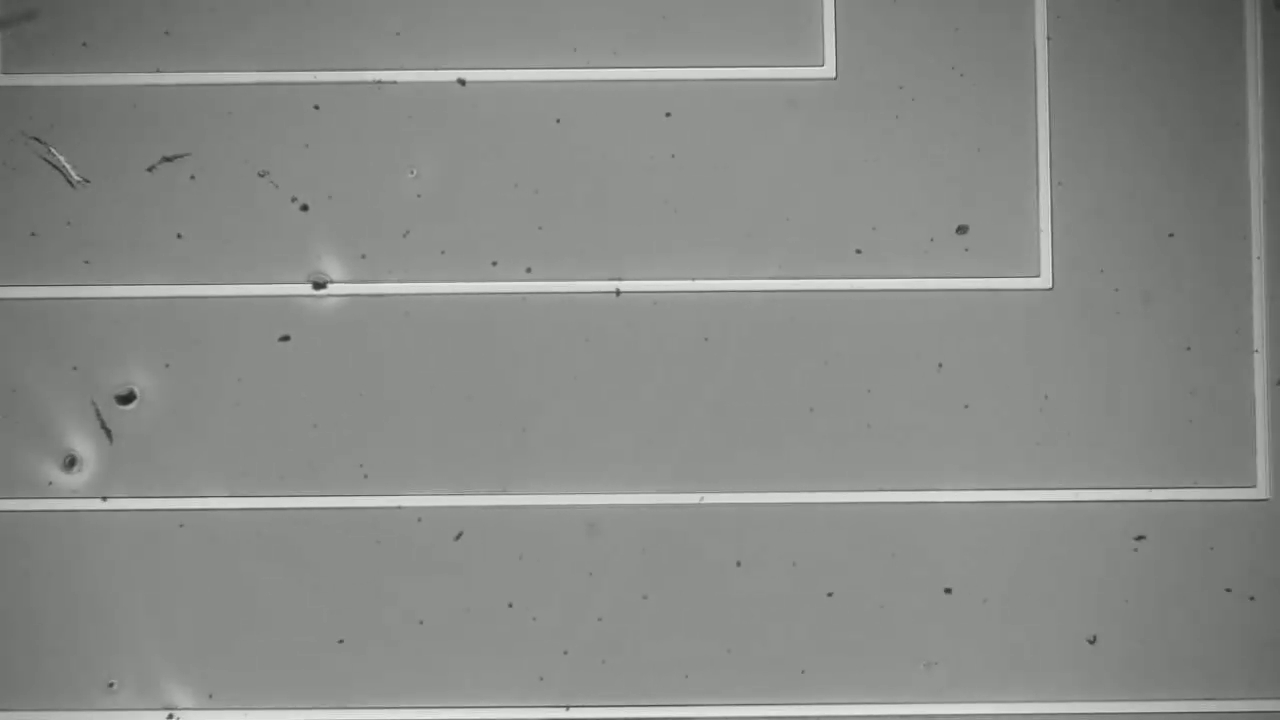stains_enbedded: (302, 269, 341, 299)
